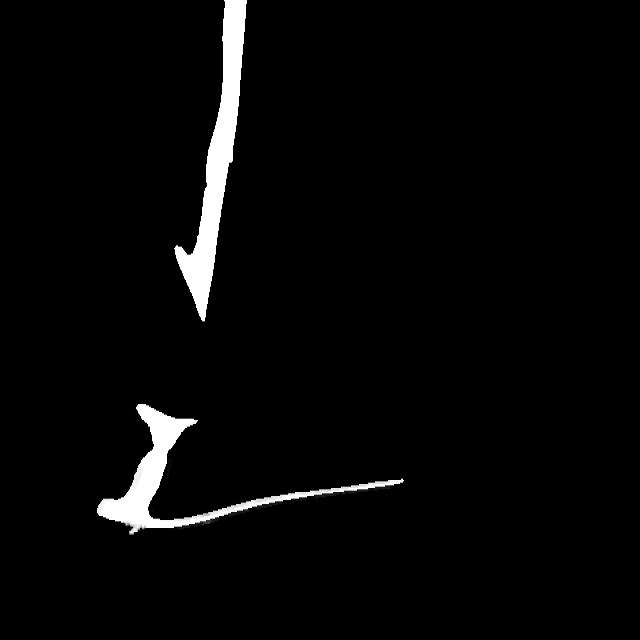sup_pli: (128, 524, 144, 537)
